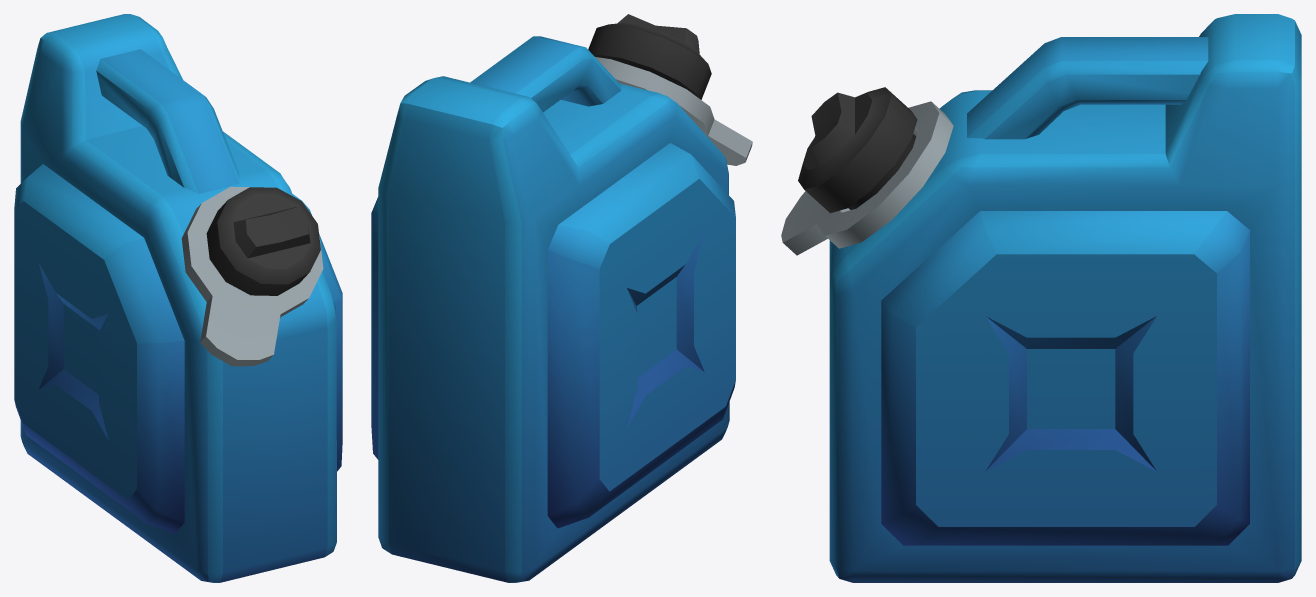
File: fuel_c_jerrycan.glb
3 views of the same model, side by side, from view 1: azimuth 30°, elevation 25°; view 2: azimuth 150°, elevation 25°; view 3: azimuth 270°, elevation 25° (orthographic). The views are drawn at different scales.
Visible parts, largest first — view 1: Fuel_C_Jerrycan; view 2: Fuel_C_Jerrycan; view 3: Fuel_C_Jerrycan.
Part boxes in pixels (x1,y1,x2,y2): Fuel_C_Jerrycan: (14, 14, 342, 582); Fuel_C_Jerrycan: (371, 14, 752, 582); Fuel_C_Jerrycan: (781, 14, 1301, 582).
Size of the model in its own units: 0.24 by 0.468 by 0.4299.
Materials: 1 (1 with a texture image).
